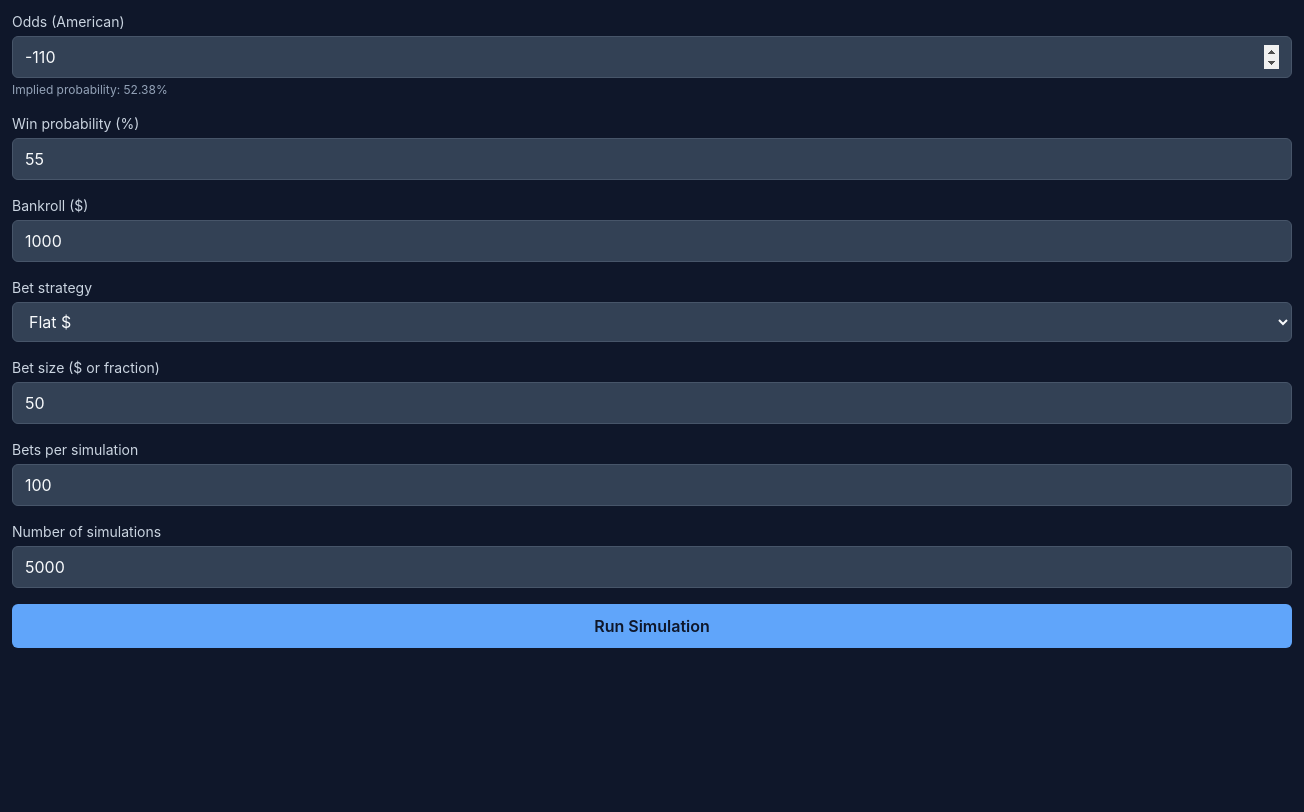
Test case: SimulationForm › rejects invalid odds 0
This screenshot has width=1304, height=812.
Replace the text in the number field labelled "Odds (American)" with "0" at (652, 57), box [12, 36, 1292, 78]
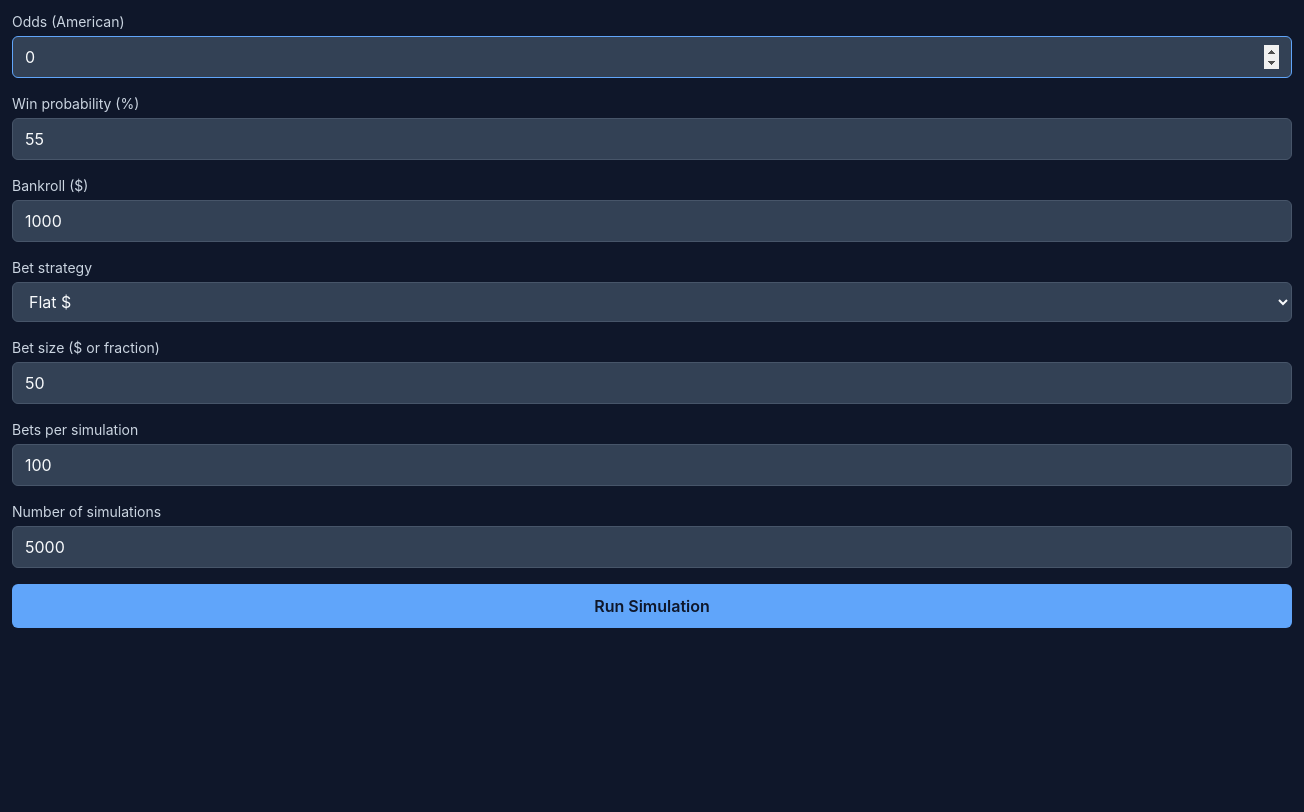
Click the button "Run Simulation" at (652, 606), box [12, 584, 1292, 628]
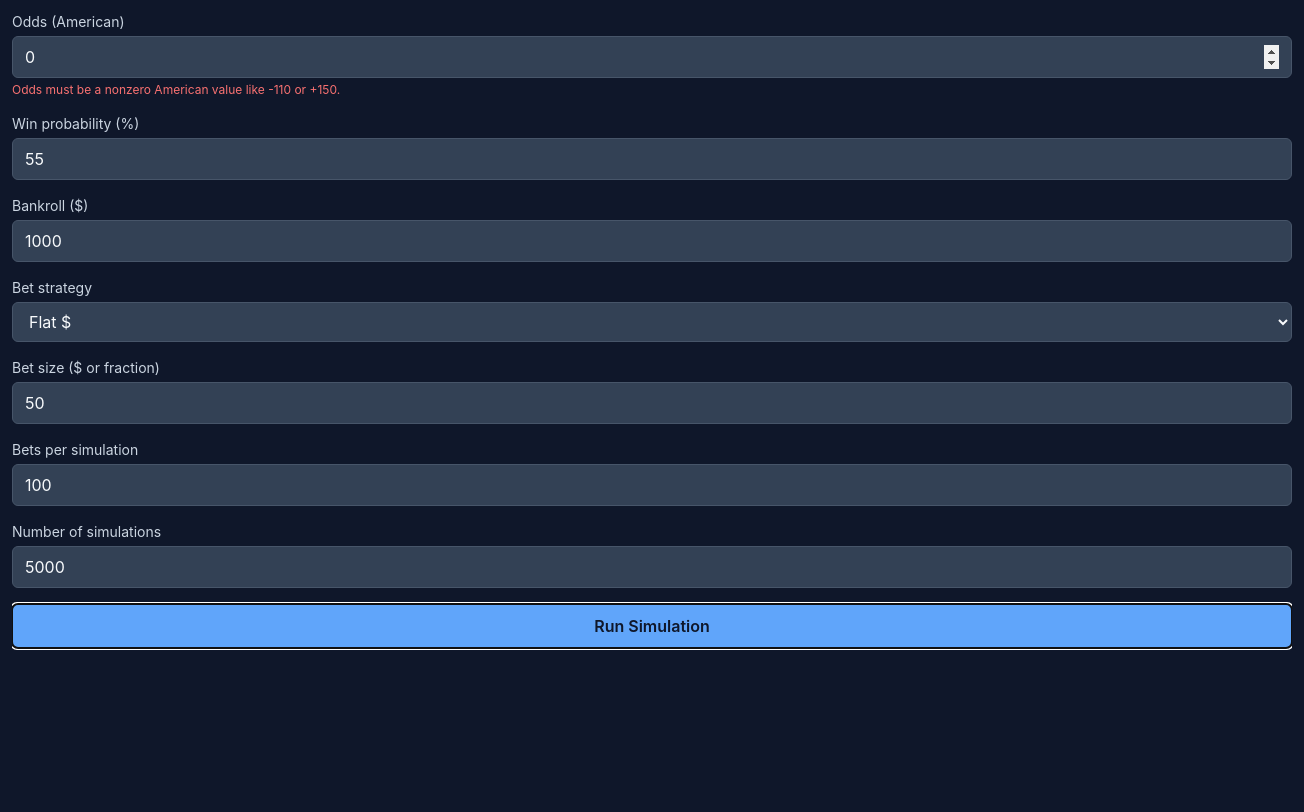
Expected: the text "Odds must be a nonzero American value like -110 or +150." is shown, [12, 82, 340, 97]
